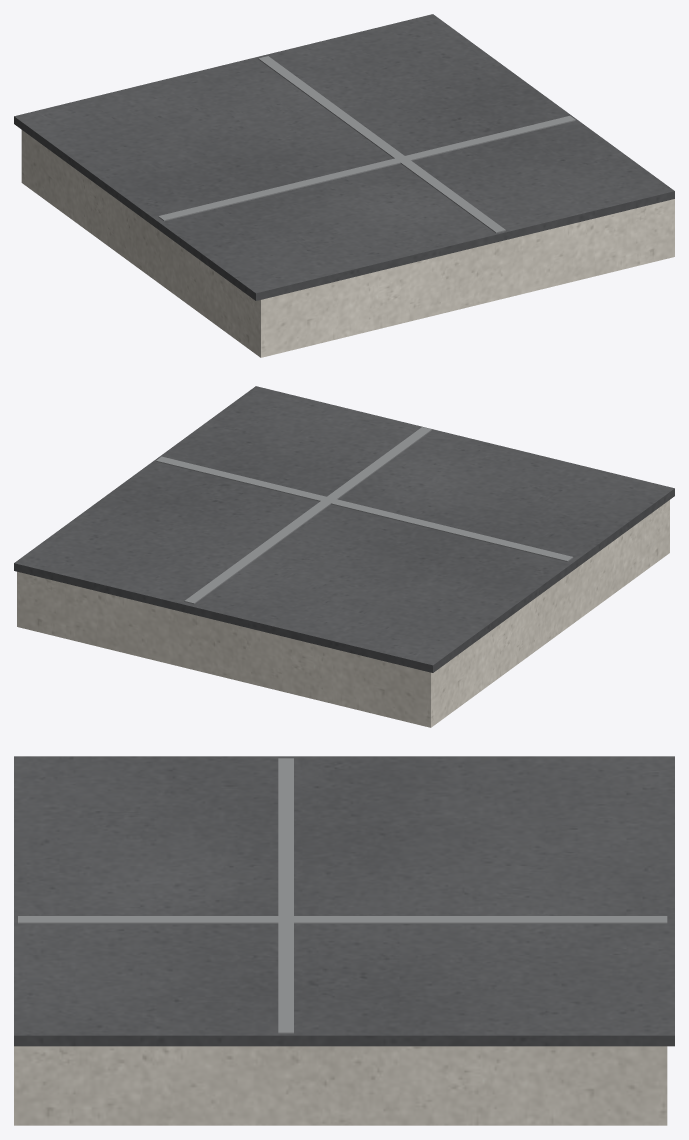
Rendered from floor_membrane_r_e0101.glb.
3 renders of one model, top to bottom at view 1: azimuth 30°, elevation 25°; view 2: azimuth 150°, elevation 25°; view 3: azimuth 270°, elevation 25°, orthographic. The views are drawn at different scales.
Visible parts, largest first — view 1: floor_membrane_r_e0101_membrane, floor_membrane_r_e0101_plaster, floor_membrane_r_e0101_seam; view 2: floor_membrane_r_e0101_membrane, floor_membrane_r_e0101_plaster, floor_membrane_r_e0101_seam; view 3: floor_membrane_r_e0101_membrane, floor_membrane_r_e0101_plaster, floor_membrane_r_e0101_seam.
Boxes of the visible parts, <box> form: floor_membrane_r_e0101_membrane: <box>14,14,674,300</box>; floor_membrane_r_e0101_plaster: <box>21,130,674,357</box>; floor_membrane_r_e0101_seam: <box>158,56,575,233</box>; floor_membrane_r_e0101_membrane: <box>14,386,674,672</box>; floor_membrane_r_e0101_plaster: <box>17,500,669,727</box>; floor_membrane_r_e0101_seam: <box>156,427,573,604</box>; floor_membrane_r_e0101_membrane: <box>14,756,674,1046</box>; floor_membrane_r_e0101_plaster: <box>14,1046,667,1125</box>; floor_membrane_r_e0101_seam: <box>18,758,667,1033</box>.
Size of the model in its own units: 1.7 by 0.259 by 1.7.
Materials: 3 (2 with a texture image).
